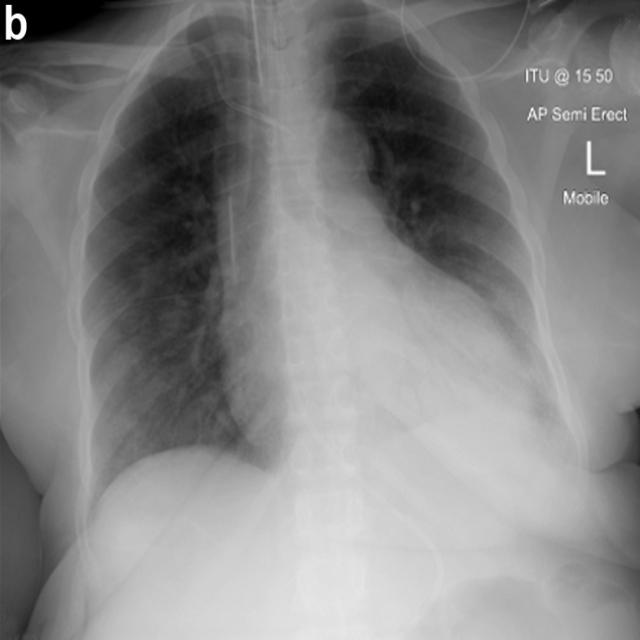diaphragm: (91, 418, 590, 640)
heart: (217, 110, 533, 490)
left_lobe: (304, 0, 585, 490)
right_lobe: (82, 5, 296, 517)
